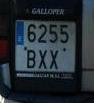2: (38, 24, 47, 44)
5: (60, 24, 69, 44), (49, 24, 58, 44)
6: (27, 23, 37, 43)
B: (27, 49, 36, 69)
X: (38, 49, 48, 70), (49, 49, 59, 70)
